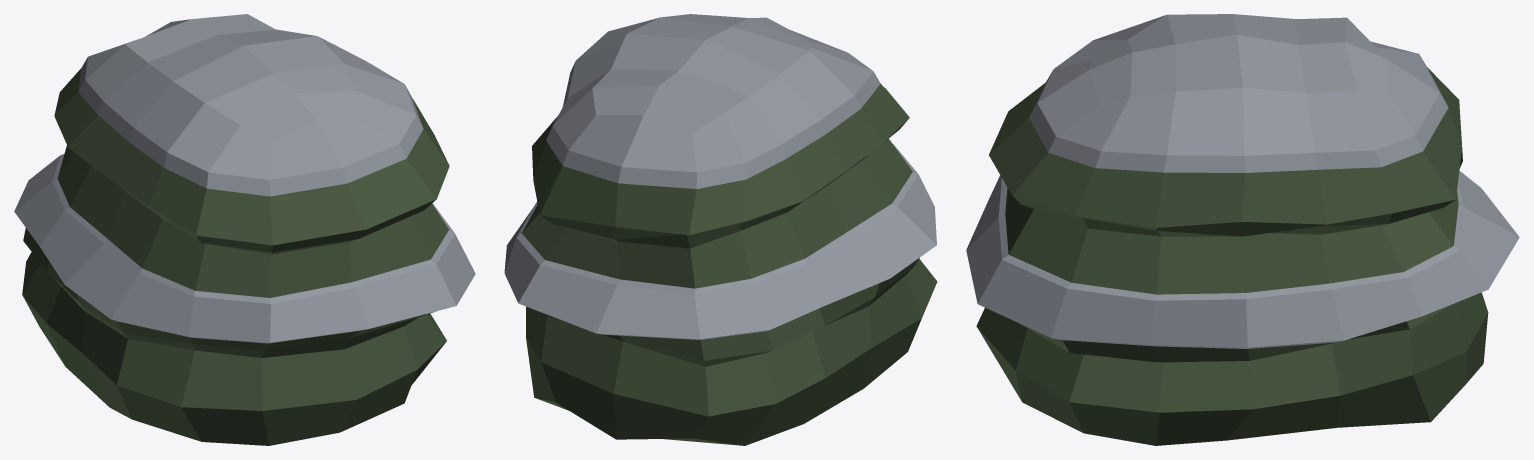
File: sn_bush_1.glb
3 views of the same model, side by side, from view 1: azimuth 30°, elevation 25°; view 2: azimuth 150°, elevation 25°; view 3: azimuth 270°, elevation 25° (orthographic). The views are drawn at different scales.
Parts seen in each view (by area): view 1: Bush_Snow_1; view 2: Bush_Snow_1; view 3: Bush_Snow_1.
Part boxes in pixels (x1=…): Bush_Snow_1: x1=14, y1=14, x2=475, y2=445; Bush_Snow_1: x1=504, y1=14, x2=937, y2=445; Bush_Snow_1: x1=966, y1=14, x2=1519, y2=445.
Size of the model in its own units: 1.39 by 1.28 by 1.78.
